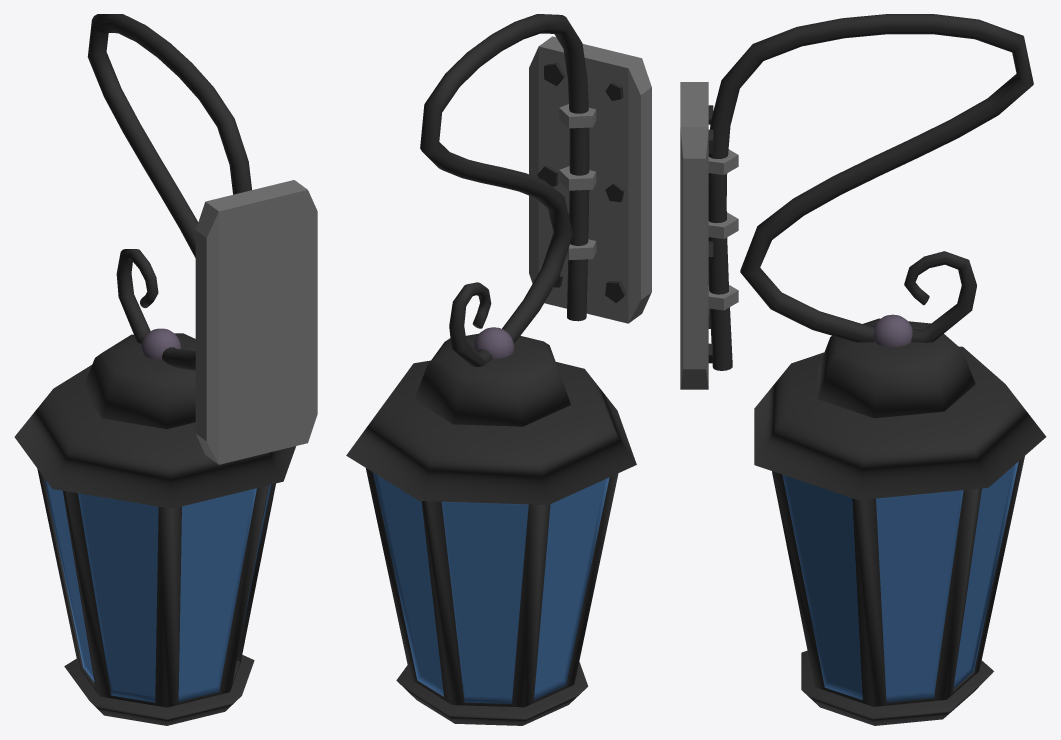
Rendered from lamp.glb.
The picture shows the model from 3 angles, left to right: view 1: azimuth 30°, elevation 25°; view 2: azimuth 150°, elevation 25°; view 3: azimuth 270°, elevation 25°; orthographic projection. The views are drawn at different scales.
Parts seen in each view (by area): view 1: Cube, Cylinder.003, Cylinder.002, Cylinder, Cylinder.005, Cylinder.004, Cylinder.001, Sphere; view 2: Cylinder.003, Cylinder.002, Cube, Cylinder.005, Cylinder, Cylinder.004, Cylinder.001, Sphere, Cylinder.007, Cylinder.008; view 3: Cylinder.003, Cylinder.002, Cylinder.005, Cylinder, Cylinder.004, Cube, Cylinder.001, Sphere.
Boxes of the visible parts, left/top/right/bottom form: Cube: left=195, top=180, right=317, bottom=464; Cylinder.003: left=44, top=478, right=271, bottom=702; Cylinder.002: left=14, top=365, right=295, bottom=508; Cylinder: left=37, top=469, right=275, bottom=707; Cylinder.005: left=87, top=14, right=251, bottom=370; Cylinder.004: left=82, top=333, right=195, bottom=428; Cylinder.001: left=64, top=655, right=254, bottom=725; Sphere: left=141, top=328, right=180, bottom=359; Cylinder.003: left=373, top=472, right=609, bottom=703; Cylinder.002: left=346, top=360, right=636, bottom=504; Cube: left=529, top=36, right=651, bottom=323; Cylinder.005: left=420, top=14, right=589, bottom=367; Cylinder: left=366, top=468, right=618, bottom=707; Cylinder.004: left=414, top=333, right=570, bottom=426; Cylinder.001: left=396, top=662, right=588, bottom=725; Sphere: left=474, top=327, right=514, bottom=358; Cylinder.007: left=559, top=166, right=596, bottom=190; Cylinder.008: left=559, top=104, right=596, bottom=128; Cylinder.003: left=782, top=461, right=1018, bottom=702; Cylinder.002: left=754, top=346, right=1046, bottom=500; Cylinder.005: left=708, top=14, right=1033, bottom=370; Cylinder: left=772, top=456, right=1024, bottom=706; Cylinder.004: left=818, top=318, right=975, bottom=418; Cube: left=680, top=82, right=708, bottom=389; Cylinder.001: left=801, top=650, right=993, bottom=725; Sphere: left=874, top=314, right=912, bottom=346.
Bounding box in the file's own units: 2.18 × 5.54 × 2.66.
